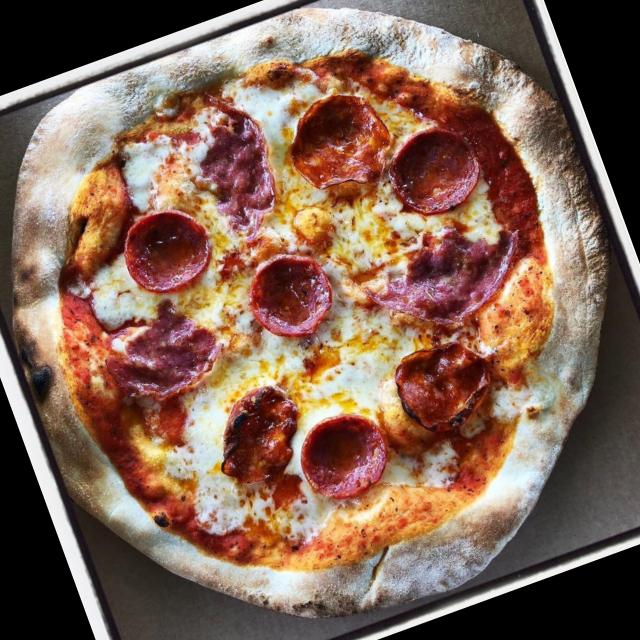pepperoni: (272, 74, 402, 198), (384, 322, 506, 432), (109, 198, 218, 307), (237, 240, 340, 350), (379, 114, 490, 216), (200, 380, 303, 488), (292, 398, 392, 500)
pizza: (12, 6, 614, 621)
